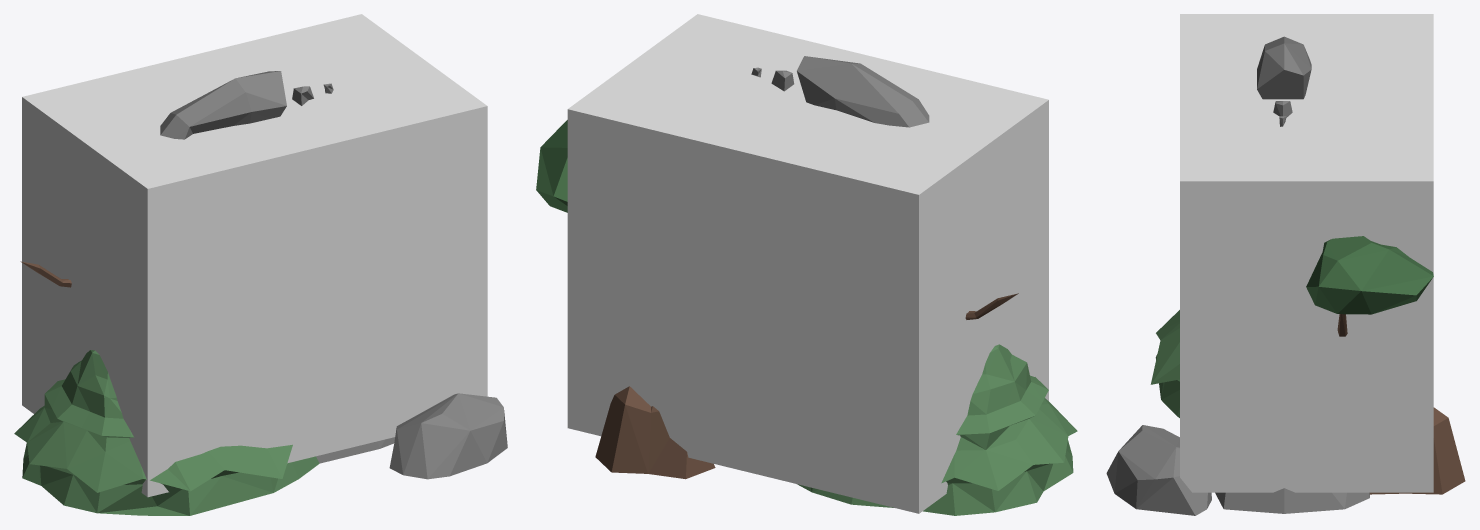
File: elf_sculpture_gem.glb
The picture shows the model from 3 angles, left to right: view 1: azimuth 30°, elevation 25°; view 2: azimuth 150°, elevation 25°; view 3: azimuth 270°, elevation 25°; orthographic projection. The views are drawn at different scales.
Visible parts, largest first — view 1: Cube, sculpture_1; view 2: Cube, sculpture_1; view 3: Cube, sculpture_1.
Part boxes in pixels (x1,y1,x2,y2): Cube: [22, 14, 487, 497]; sculpture_1: [14, 71, 507, 515]; Cube: [567, 14, 1048, 513]; sculpture_1: [536, 56, 1077, 515]; Cube: [1180, 14, 1433, 492]; sculpture_1: [1106, 36, 1465, 515].
Size of the model in its own units: 4.3 by 3.2 by 2.83.
Materials: 1 (1 with a texture image).
